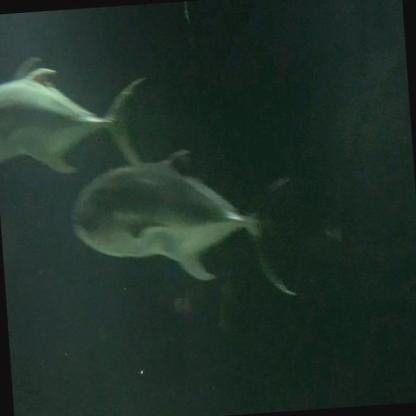fish: (66, 137, 299, 316), (0, 59, 154, 193)
